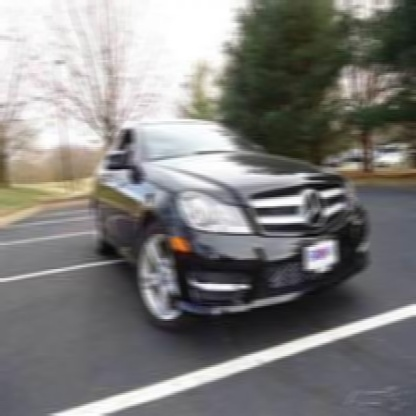Vehicle: (90, 120, 372, 333)
